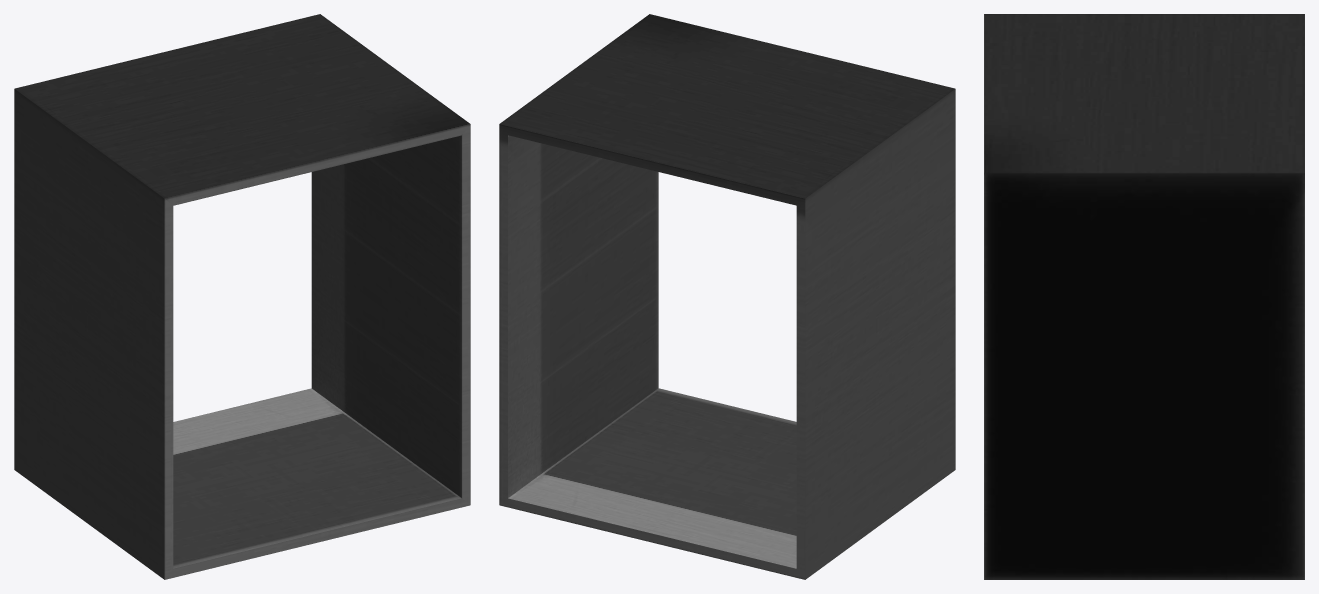
Rendered from case_1.gltf.
3 views of the same model, side by side, from view 1: azimuth 30°, elevation 25°; view 2: azimuth 150°, elevation 25°; view 3: azimuth 270°, elevation 25° (orthographic). The views are drawn at different scales.
Visible parts, largest first — view 1: case_1; view 2: case_1; view 3: case_1.
Boxes of the visible parts, x1=… form: case_1: x1=14, y1=14, x2=470, y2=579; case_1: x1=499, y1=14, x2=955, y2=579; case_1: x1=984, y1=14, x2=1304, y2=579.
Bounding box in the file's own units: 2.72 × 3.24 × 2.32.
Materials: 1 (1 with a texture image).
